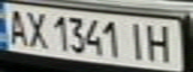1: (100, 18, 124, 58), (48, 12, 69, 52)
3: (66, 14, 87, 54)
4: (81, 16, 103, 56)
A: (0, 6, 30, 46)
H: (142, 20, 181, 64)
I: (124, 19, 151, 62)
X: (21, 8, 51, 50)
